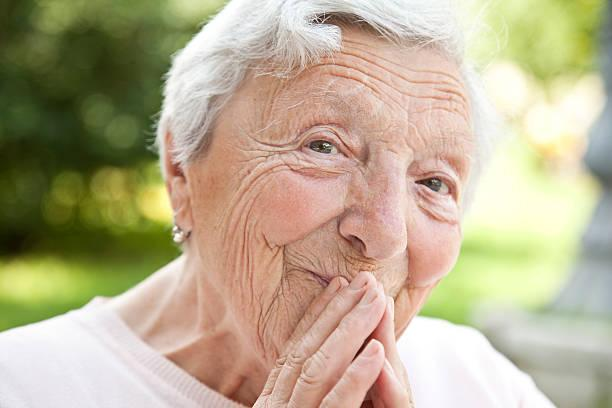Wrinkles: (317, 63, 468, 109), (223, 163, 298, 244), (340, 53, 457, 85), (350, 48, 461, 80), (244, 169, 297, 200), (243, 192, 261, 257), (371, 80, 408, 110), (246, 131, 298, 147), (334, 76, 380, 94), (266, 81, 282, 123), (239, 152, 287, 162), (237, 145, 294, 152), (410, 124, 427, 145), (413, 108, 457, 114), (440, 90, 466, 100), (246, 232, 249, 280), (251, 253, 253, 305)
